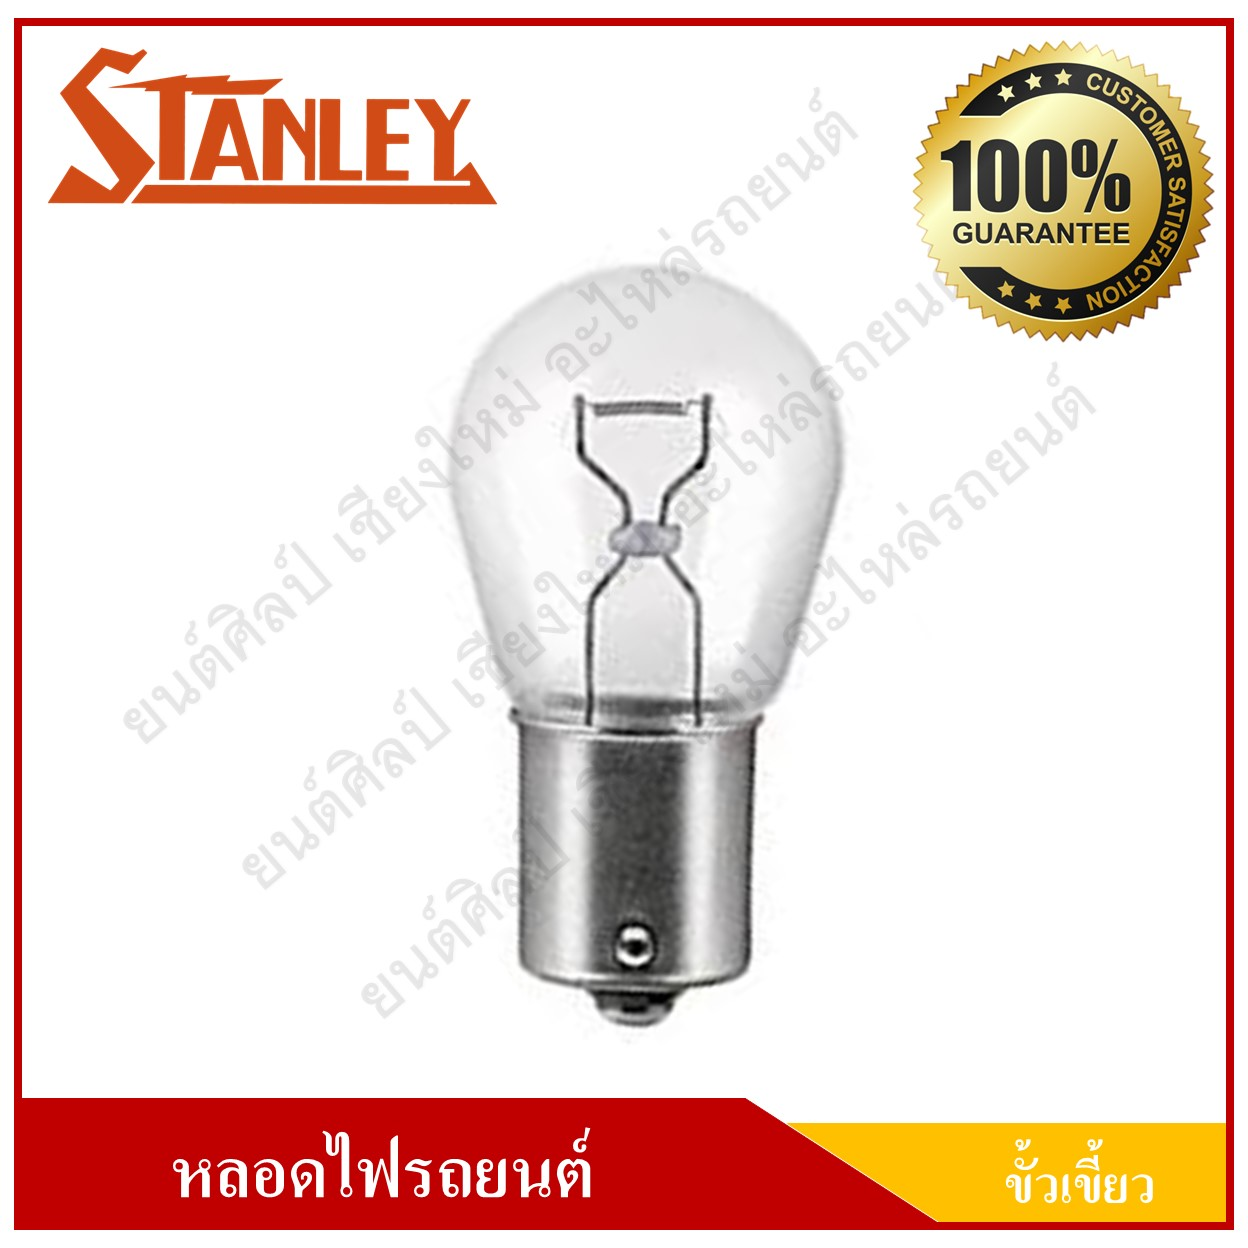Light_bulb: (439, 253, 850, 1051)
